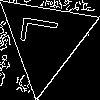L: (20, 14, 67, 48)
